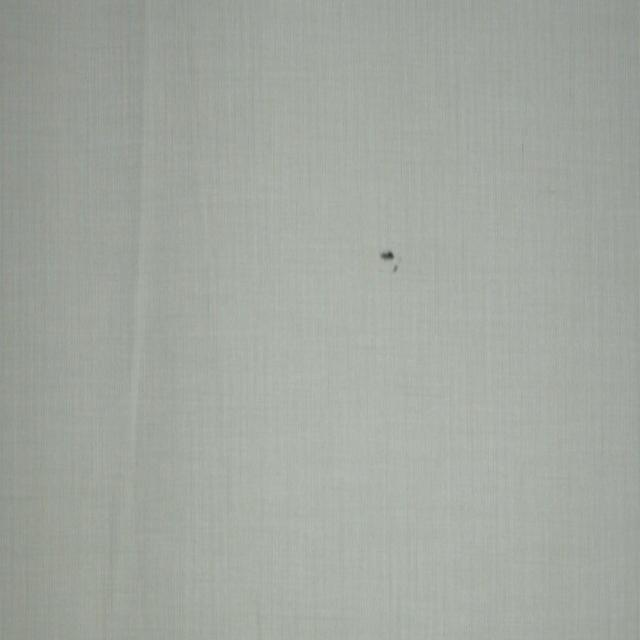dirty: (380, 249, 400, 274)
